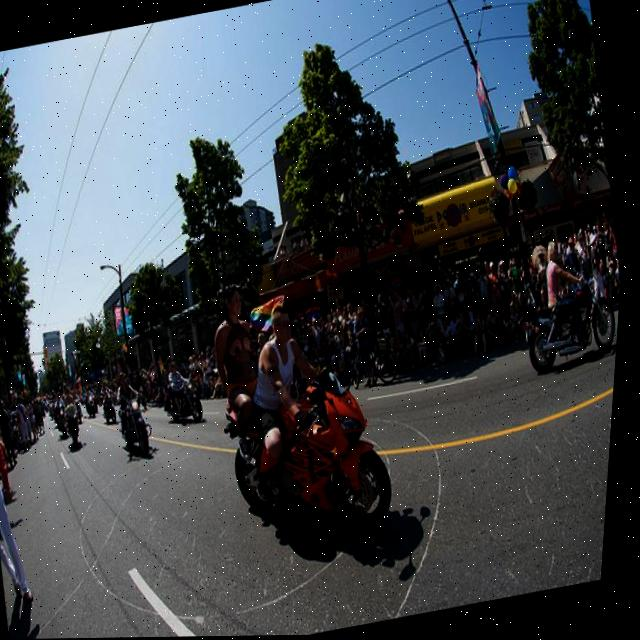motorcycle: (204, 357, 419, 554), (505, 259, 622, 380), (112, 408, 162, 467)
